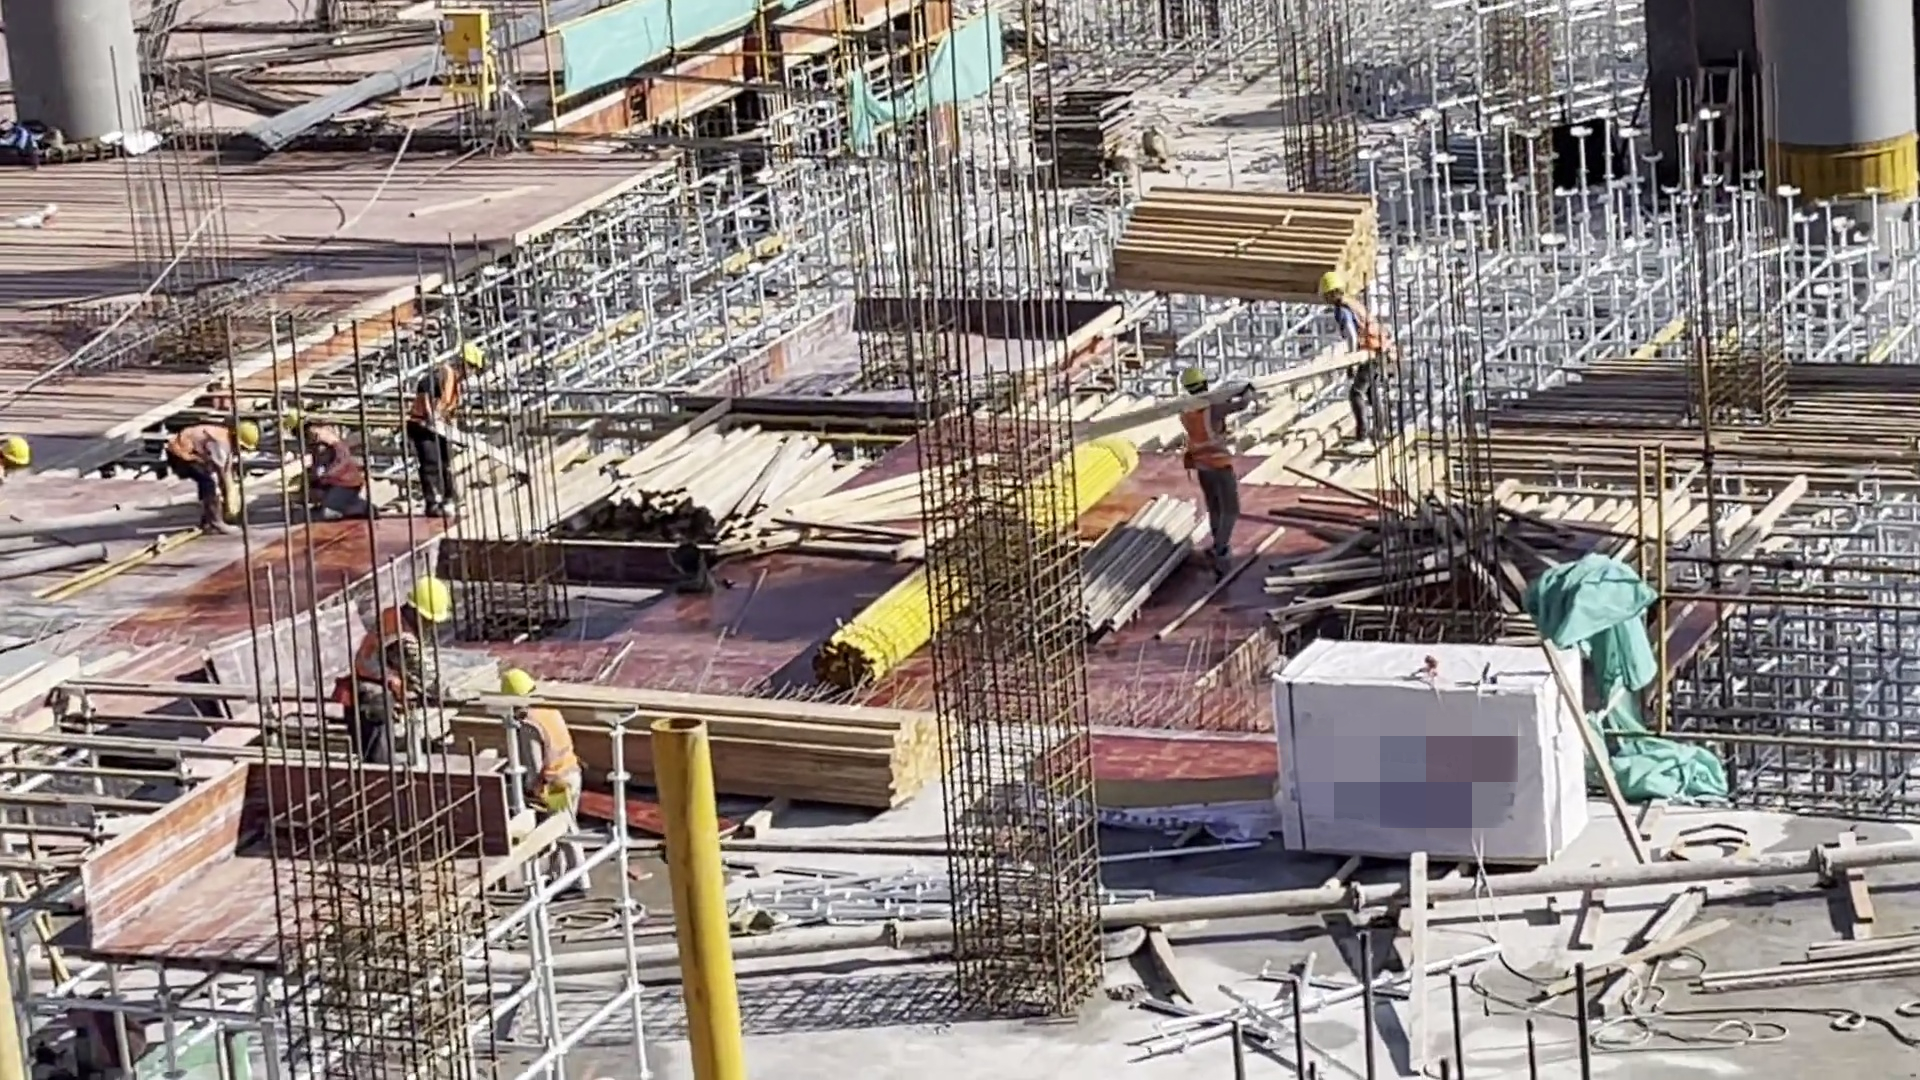ebox: (427, 6, 497, 112)
helmet: (389, 571, 456, 621), (498, 662, 542, 713), (1174, 361, 1220, 404), (224, 412, 261, 456), (1, 435, 32, 469), (453, 335, 484, 369), (278, 414, 313, 443), (1314, 268, 1341, 298)
person: (1299, 270, 1429, 464), (339, 574, 451, 796), (1165, 353, 1251, 561), (495, 663, 582, 863), (169, 397, 272, 545), (407, 328, 482, 518), (268, 406, 375, 521)
vest: (507, 716, 586, 798), (340, 617, 409, 702), (411, 361, 466, 429), (1171, 402, 1223, 466), (304, 434, 364, 485), (1336, 296, 1387, 353), (172, 421, 227, 469)
wood: (498, 422, 865, 536), (1106, 183, 1374, 291)
